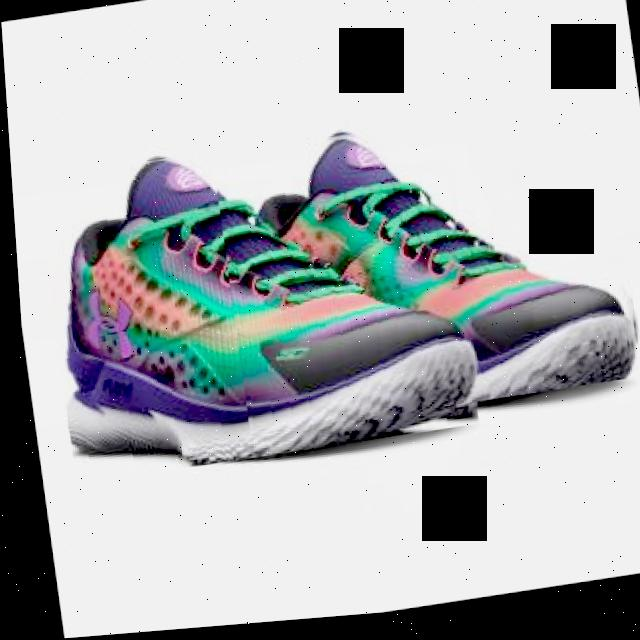shoe: (30, 118, 483, 486), (207, 101, 640, 441)
